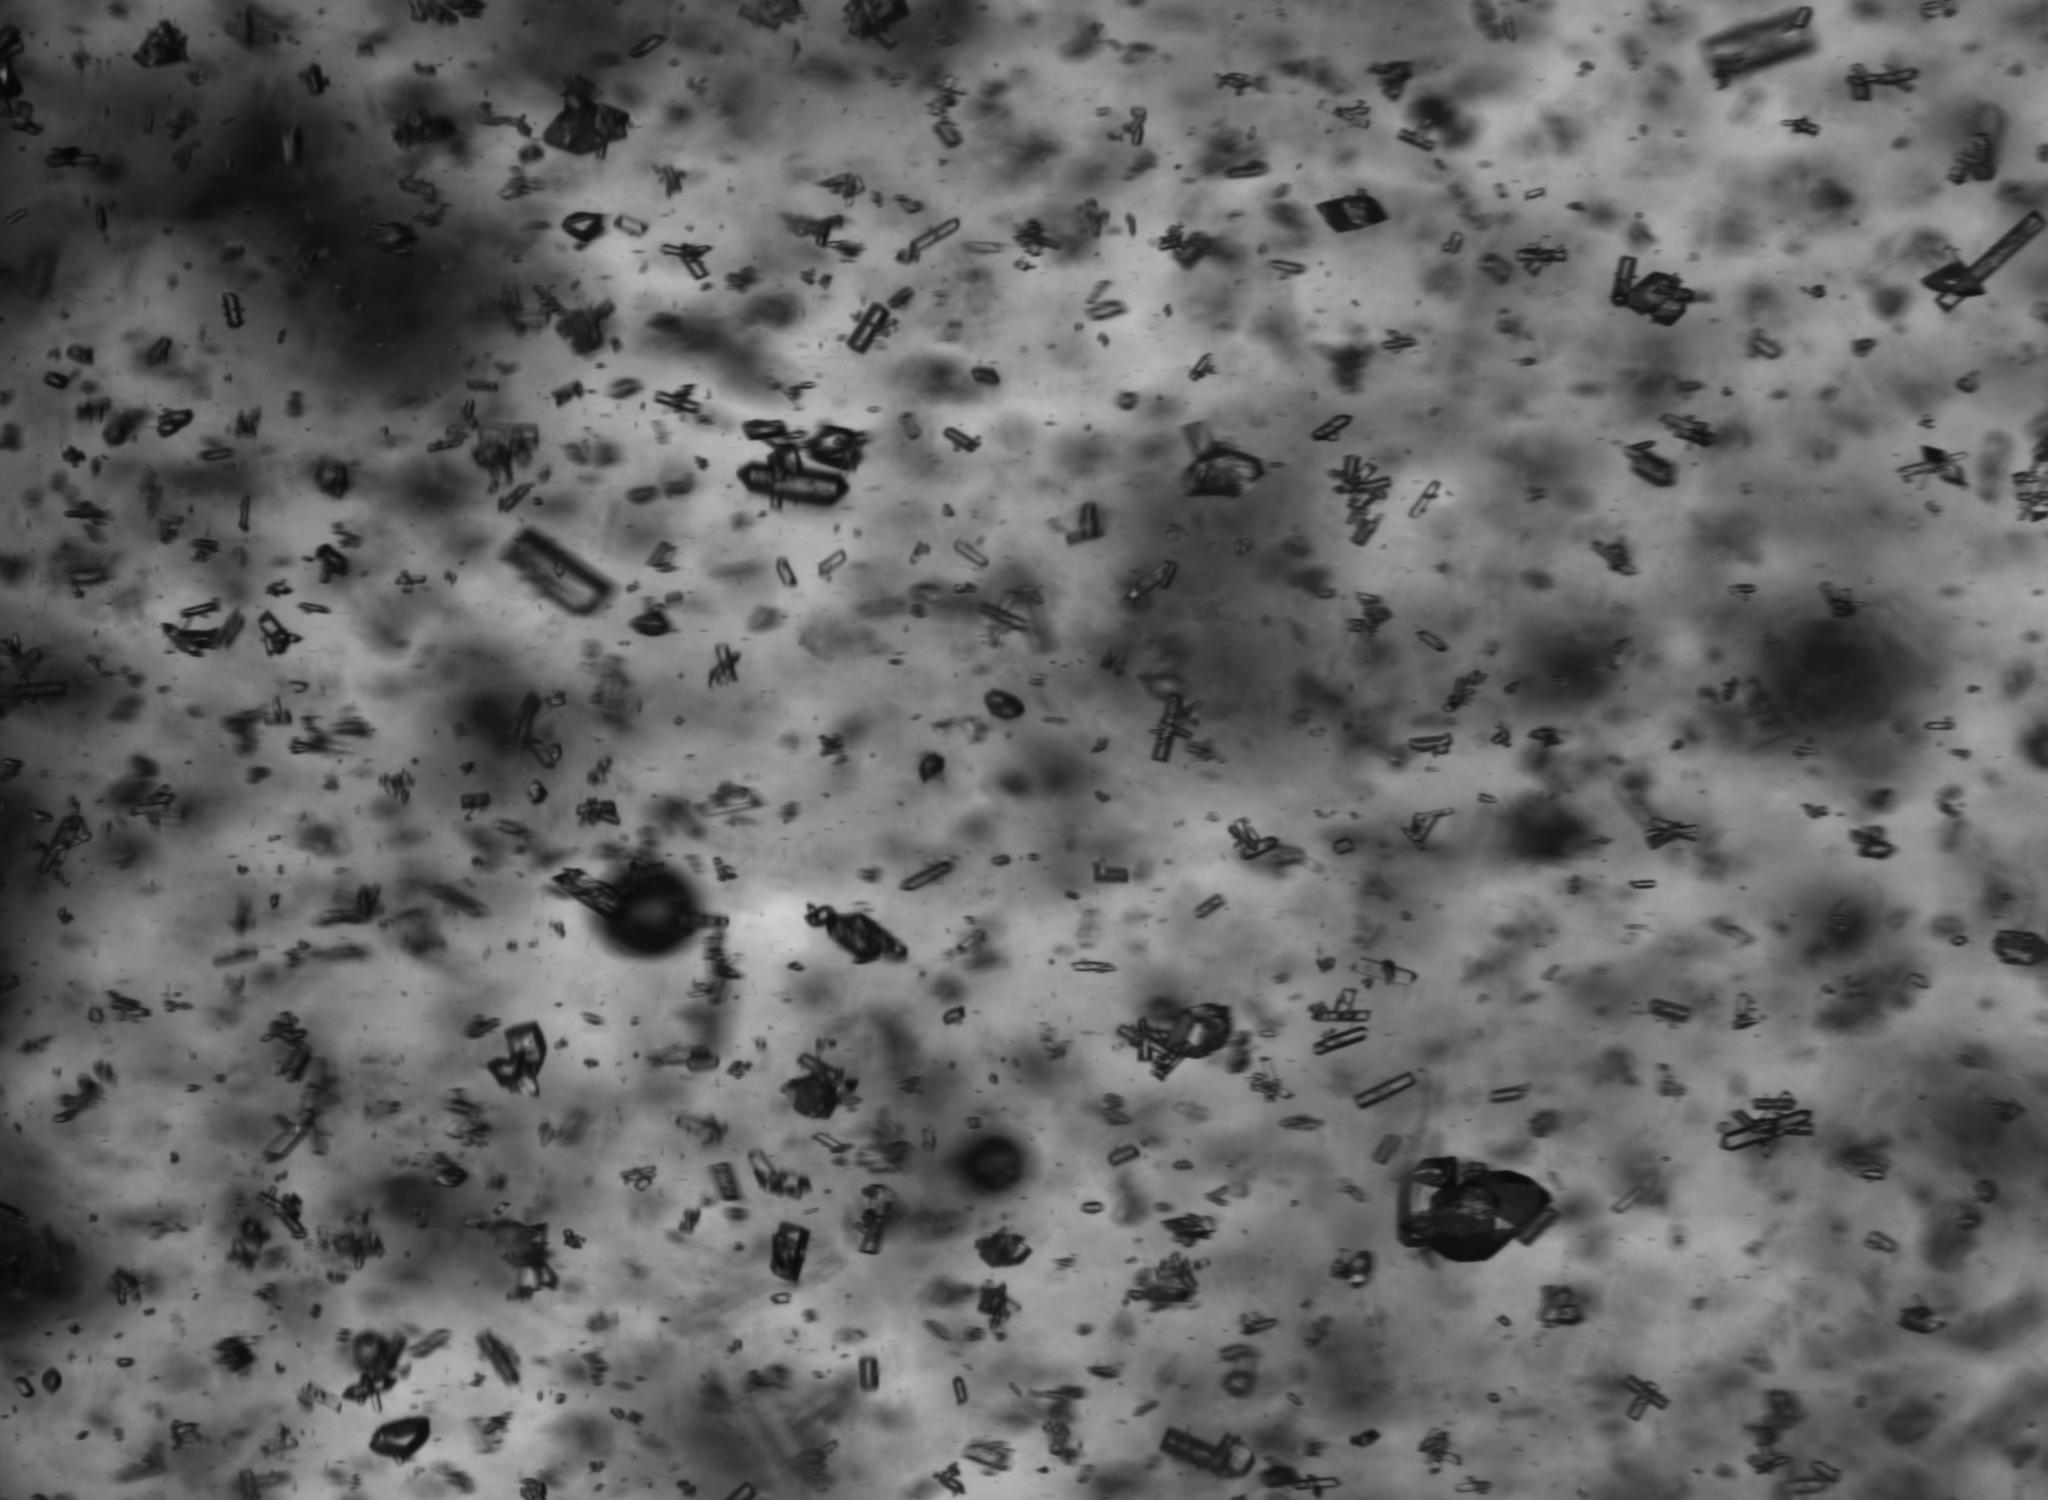bubble: (603, 872, 700, 958), (952, 1133, 1027, 1193)
crystal: (1398, 1156, 1557, 1261), (1921, 210, 2048, 310), (502, 525, 611, 616), (1116, 1002, 1229, 1080), (541, 84, 628, 157), (805, 903, 908, 964), (1611, 256, 1695, 326), (487, 1218, 557, 1301), (736, 463, 851, 509), (1158, 1425, 1256, 1478), (784, 1055, 860, 1120), (487, 1021, 547, 1096), (1181, 445, 1266, 498), (471, 425, 539, 485), (1126, 1253, 1197, 1311), (1720, 1109, 1814, 1152), (37, 814, 94, 875), (553, 869, 623, 918), (843, 0, 910, 49), (1329, 455, 1390, 509), (747, 1150, 813, 1199), (264, 1109, 318, 1166), (1894, 444, 1968, 485), (1317, 196, 1391, 235), (806, 425, 865, 472), (855, 1183, 895, 1253), (367, 1416, 429, 1460), (134, 21, 188, 70), (770, 1220, 811, 1284), (1846, 64, 1916, 100), (258, 1191, 308, 1241), (474, 1331, 520, 1385), (1353, 1071, 1415, 1110), (1402, 806, 1453, 853), (846, 302, 889, 356), (1151, 694, 1185, 762), (342, 1374, 398, 1414), (159, 620, 219, 657), (695, 786, 760, 819), (1310, 988, 1372, 1023), (1622, 1376, 1670, 1420), (1992, 929, 2048, 967), (1229, 818, 1278, 861), (1127, 560, 1178, 601), (1515, 235, 1568, 275), (1352, 956, 1417, 988), (1658, 414, 1717, 449), (258, 609, 302, 655), (660, 243, 714, 280), (1643, 818, 1701, 851), (978, 1231, 1030, 1268), (0, 25, 25, 100), (1420, 1427, 1460, 1475), (1310, 1026, 1369, 1058), (897, 861, 954, 892), (960, 1440, 1011, 1475), (1315, 97, 1371, 129), (910, 218, 959, 253), (708, 644, 743, 694), (1328, 1247, 1371, 1287), (976, 601, 1029, 631), (816, 173, 865, 205), (1895, 1306, 1949, 1335), (1161, 1217, 1215, 1245), (372, 223, 418, 256), (259, 1012, 305, 1045), (275, 1040, 312, 1082), (765, 442, 803, 480), (43, 146, 102, 170), (313, 544, 348, 584), (259, 1424, 299, 1459), (301, 1381, 342, 1414), (560, 212, 603, 243), (523, 736, 563, 770), (1409, 479, 1441, 520), (984, 689, 1024, 721), (709, 1160, 739, 1201), (1309, 414, 1352, 442), (654, 390, 701, 415), (316, 463, 350, 498), (495, 482, 533, 512), (278, 126, 304, 170), (932, 1462, 965, 1495), (577, 800, 620, 826), (154, 409, 192, 437), (630, 611, 669, 638), (741, 420, 789, 442), (10, 100, 41, 134), (1191, 891, 1226, 921), (1649, 997, 1690, 1023), (626, 33, 668, 59), (428, 1163, 469, 1188), (646, 539, 677, 571), (954, 541, 989, 568), (943, 426, 979, 452), (619, 1166, 655, 1191), (813, 1133, 854, 1155), (612, 213, 650, 237), (1611, 1188, 1646, 1214), (1409, 733, 1452, 754), (1394, 129, 1434, 151), (146, 336, 173, 367), (933, 121, 962, 150), (1350, 520, 1380, 547), (919, 752, 944, 784), (239, 1468, 264, 1500), (1864, 1230, 1897, 1253), (1124, 108, 1145, 146), (1088, 301, 1126, 321), (897, 410, 922, 441), (108, 997, 148, 1016), (223, 293, 243, 329), (1860, 837, 1894, 859), (1107, 1144, 1140, 1166), (819, 550, 846, 577), (1550, 1303, 1582, 1325), (1092, 864, 1129, 883), (129, 800, 169, 818), (957, 929, 986, 953), (1809, 1460, 1840, 1483), (1189, 352, 1212, 382), (307, 62, 326, 97), (1417, 631, 1449, 652), (1752, 336, 1779, 359), (1240, 1317, 1277, 1335), (1081, 501, 1099, 538), (860, 1358, 879, 1392), (1487, 1086, 1526, 1102), (1291, 1478, 1339, 1490), (426, 437, 464, 453), (526, 778, 549, 805), (520, 1478, 547, 1500), (41, 1366, 64, 1393), (41, 371, 70, 391), (180, 603, 216, 619), (460, 792, 490, 811), (778, 558, 798, 585), (1350, 1430, 1382, 1448), (814, 220, 832, 250), (13, 1374, 33, 1400), (1456, 1481, 1496, 1494), (463, 396, 477, 431), (200, 447, 235, 461), (0, 208, 29, 226), (1070, 961, 1115, 972), (698, 913, 728, 929), (1266, 261, 1302, 274), (1382, 337, 1415, 350), (943, 1007, 965, 1026), (1447, 231, 1464, 255), (1790, 119, 1819, 134), (973, 369, 1002, 383), (239, 493, 250, 530), (1623, 439, 1655, 452), (394, 573, 426, 585), (1792, 6, 1811, 27), (1526, 729, 1553, 743), (561, 1228, 580, 1247), (1331, 838, 1353, 854), (952, 1378, 967, 1401), (1490, 727, 1509, 744), (464, 382, 499, 391), (490, 1201, 510, 1217), (1733, 1016, 1759, 1029), (267, 582, 293, 595), (965, 242, 999, 251), (297, 603, 331, 612), (29, 810, 51, 824), (1078, 1201, 1102, 1214), (1355, 592, 1379, 604), (1908, 973, 1929, 988), (1630, 878, 1655, 889), (545, 695, 568, 708), (191, 539, 219, 549), (1860, 1169, 1884, 1180), (1728, 584, 1755, 593), (1172, 1160, 1194, 1171), (1523, 188, 1544, 199), (113, 1357, 134, 1368), (722, 865, 738, 880), (87, 1008, 103, 1023), (1926, 722, 1953, 730), (991, 854, 1010, 865), (771, 1292, 790, 1303), (1951, 935, 1968, 946), (1477, 792, 1495, 803), (1496, 1314, 1511, 1327), (1488, 1392, 1501, 1403), (789, 962, 803, 970)
